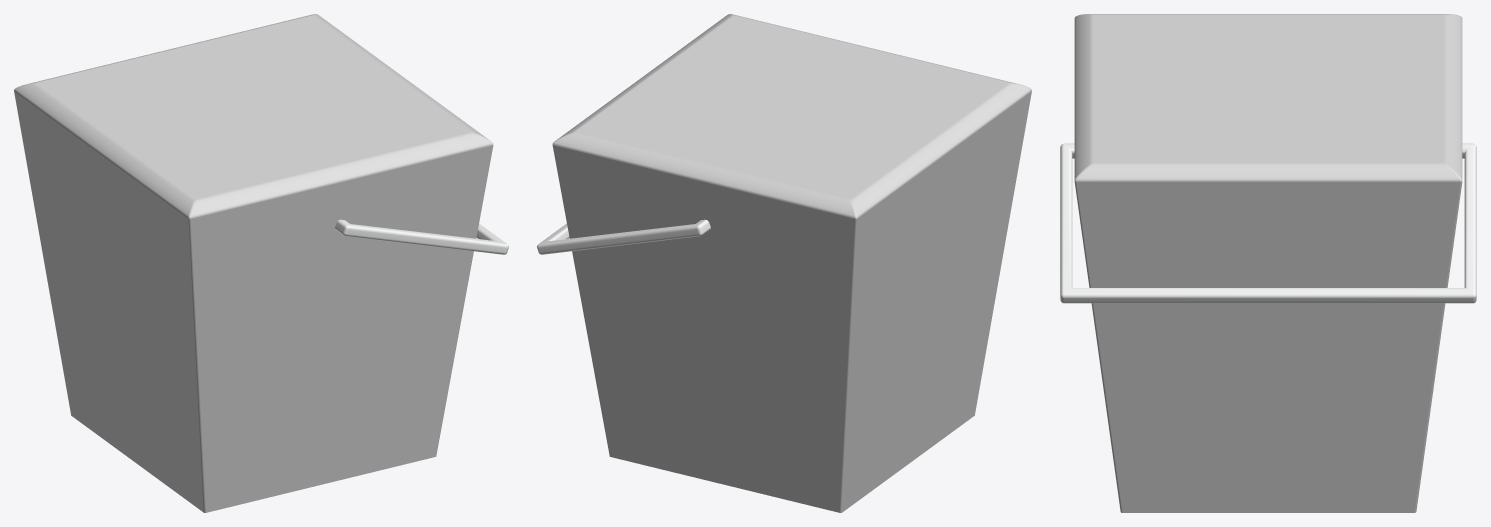
The model's file is TakeoutBox.fbx.
The picture shows the model from 3 angles, left to right: view 1: azimuth 30°, elevation 25°; view 2: azimuth 150°, elevation 25°; view 3: azimuth 270°, elevation 25°; orthographic projection. The views are drawn at different scales.
Visible parts, largest first — view 1: Takeout_Box; view 2: Takeout_Box; view 3: Takeout_Box.
Part boxes in pixels (<box>): Takeout_Box: <box>14,14,508,512</box>; Takeout_Box: <box>537,14,1031,512</box>; Takeout_Box: <box>1060,14,1476,512</box>.
Bounding box in the file's own units: 0.3257 × 0.3249 × 0.3389.
2 materials, 2 textured.
